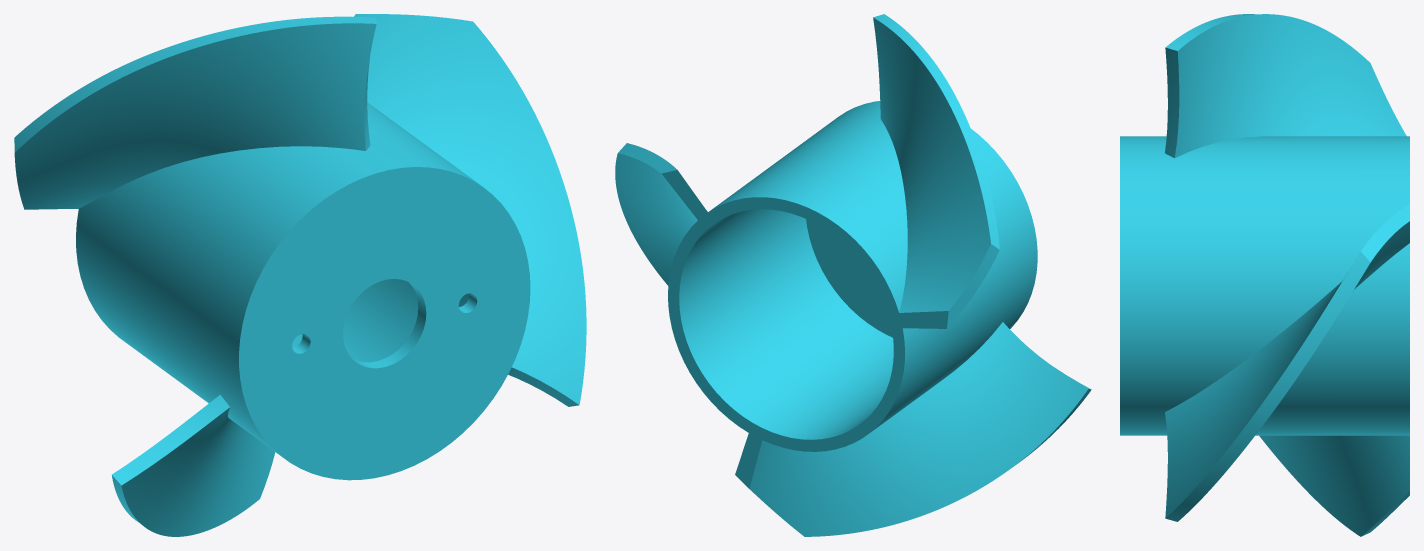
Rendered from Thruster Propeller v2.obj.
3 renders of one model, left to right at view 1: azimuth 30°, elevation 25°; view 2: azimuth 150°, elevation 25°; view 3: azimuth 270°, elevation 25°, orthographic. The views are drawn at different scales.
Parts seen in each view (by area): view 1: Body1; view 2: Body1; view 3: Body1.
Boxes of the visible parts, box(x1,y1,x2,y2) form: Body1: box(14, 14, 586, 536); Body1: box(615, 14, 1091, 536); Body1: box(1120, 14, 1409, 536).
Size of the model in its own units: 54.61 by 57.25 by 30.5.
